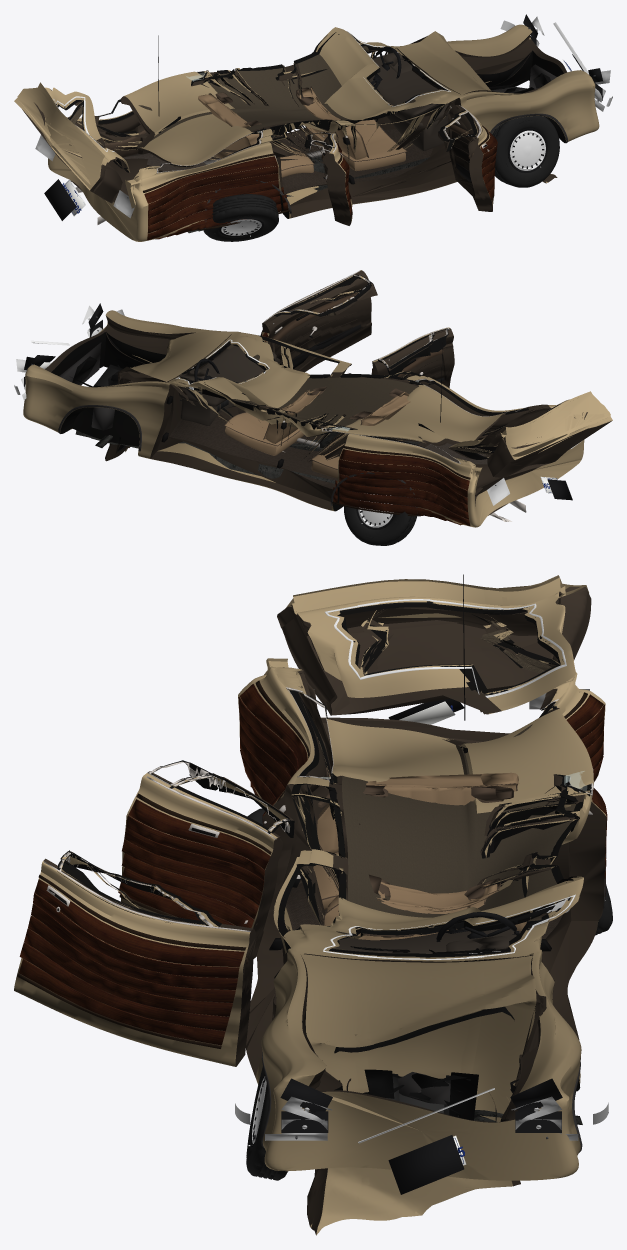
Rendered from wagon82_roll_d3_lod1.glb.
The picture shows the model from 3 angles, top to bottom: view 1: azimuth 30°, elevation 25°; view 2: azimuth 150°, elevation 25°; view 3: azimuth 270°, elevation 25°; orthographic projection. The views are drawn at different scales.
Visible parts, largest first — view 1: Body, Interior, Trim, Tailgate, Wheel_FR_mesh, Ends, Door_FR, Hood, Wheel_RR_mesh, Door_RR, Trim_FR, Underbody (+3 smaller); view 2: Body, Trim, Interior, Tailgate, Door_FR, Hood, Door_RR, Wheel_RL_mesh, Ends, Engine, Trim_FR, Underbody (+3 smaller); view 3: Body, Hood, Tailgate, Trim_FR, Trim_RR, Door_FR, Interior, Ends, Trim, Door_RR, Engine, Glass (+3 smaller).
Part boxes in pixels (x1,y1,x2,y2): Body: (48, 24, 599, 241); Interior: (105, 52, 450, 199); Trim: (80, 35, 567, 240); Tailgate: (14, 82, 129, 203); Wheel_FR_mesh: (492, 116, 559, 187); Ends: (35, 14, 612, 220); Door_FR: (438, 105, 495, 211); Hood: (396, 31, 557, 183); Wheel_RR_mesh: (203, 194, 278, 241); Door_RR: (304, 132, 352, 225); Trim_FR: (443, 105, 497, 202); Underbody: (75, 128, 430, 233); Body: (23, 310, 584, 527); Trim: (58, 341, 528, 526); Interior: (178, 346, 499, 478); Tailgate: (448, 391, 612, 477); Door_FR: (260, 270, 377, 372); Hood: (105, 332, 231, 461); Door_RR: (371, 327, 454, 387); Wheel_RL_mesh: (344, 477, 416, 545); Ends: (14, 303, 581, 505); Engine: (59, 342, 155, 430); Trim_FR: (262, 270, 369, 368); Underbody: (75, 430, 511, 521); Body: (238, 658, 606, 1180); Hood: (301, 954, 546, 1235); Tailgate: (277, 575, 591, 715); Trim_FR: (17, 852, 250, 1048); Trim_RR: (118, 761, 289, 927); Door_FR: (14, 850, 257, 1066); Interior: (311, 767, 526, 953); Ends: (235, 689, 608, 1194); Trim: (238, 574, 607, 1152); Door_RR: (121, 771, 294, 958); Engine: (338, 1069, 478, 1120); Glass: (288, 689, 591, 960).
Bounding box in the file's own units: 5.32 × 1.88 × 2.87.
30 materials, 6 textured.
